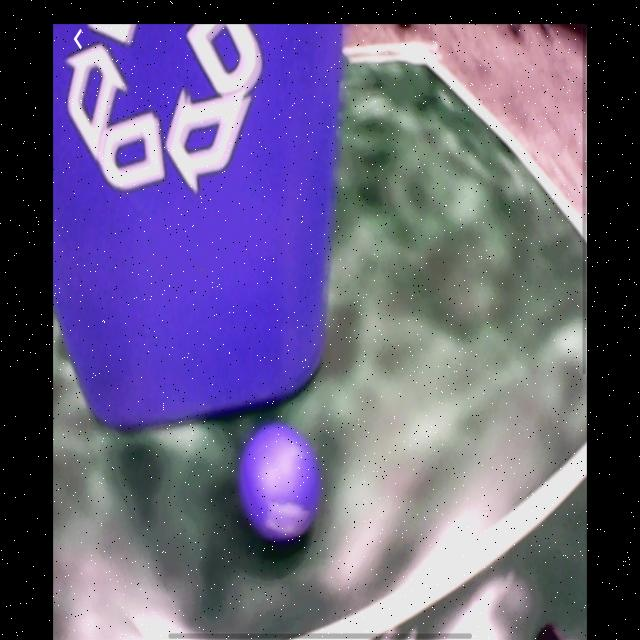ball: (240, 421, 323, 545)
